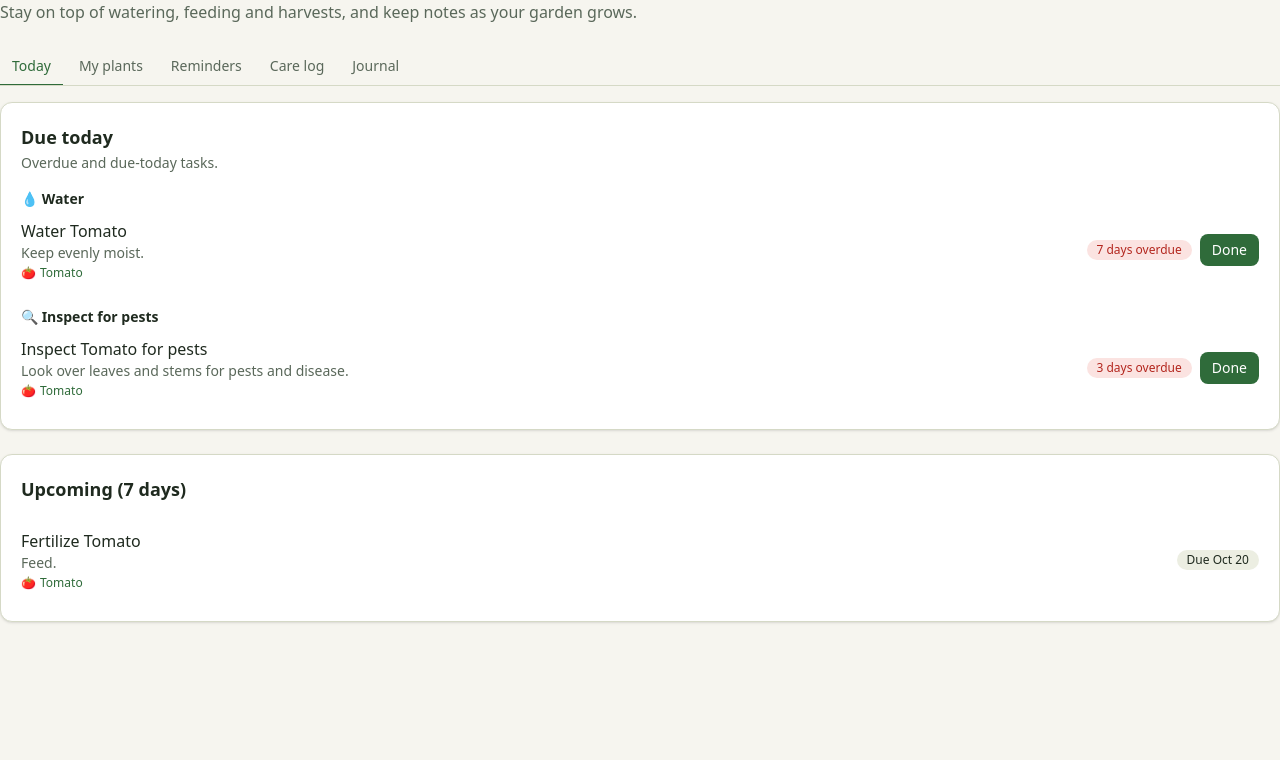
Test: CarePage › Journal › edits and deletes an entry
Later steps or results of the test are not shown.
Click the tab "Journal": (376, 67) [340, 48, 411, 86]
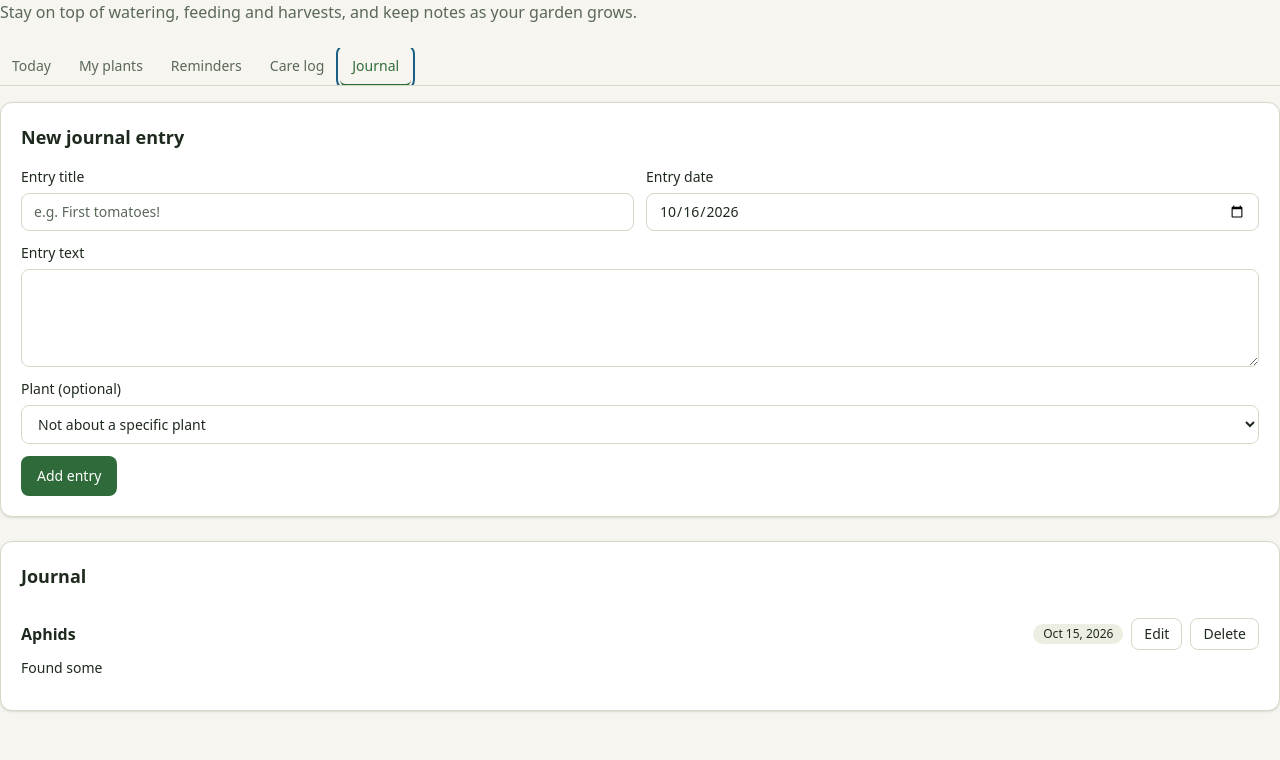
Click the button with aria-label "Edit Aphids": (1157, 634) [1131, 618, 1182, 650]
(page scrolled)
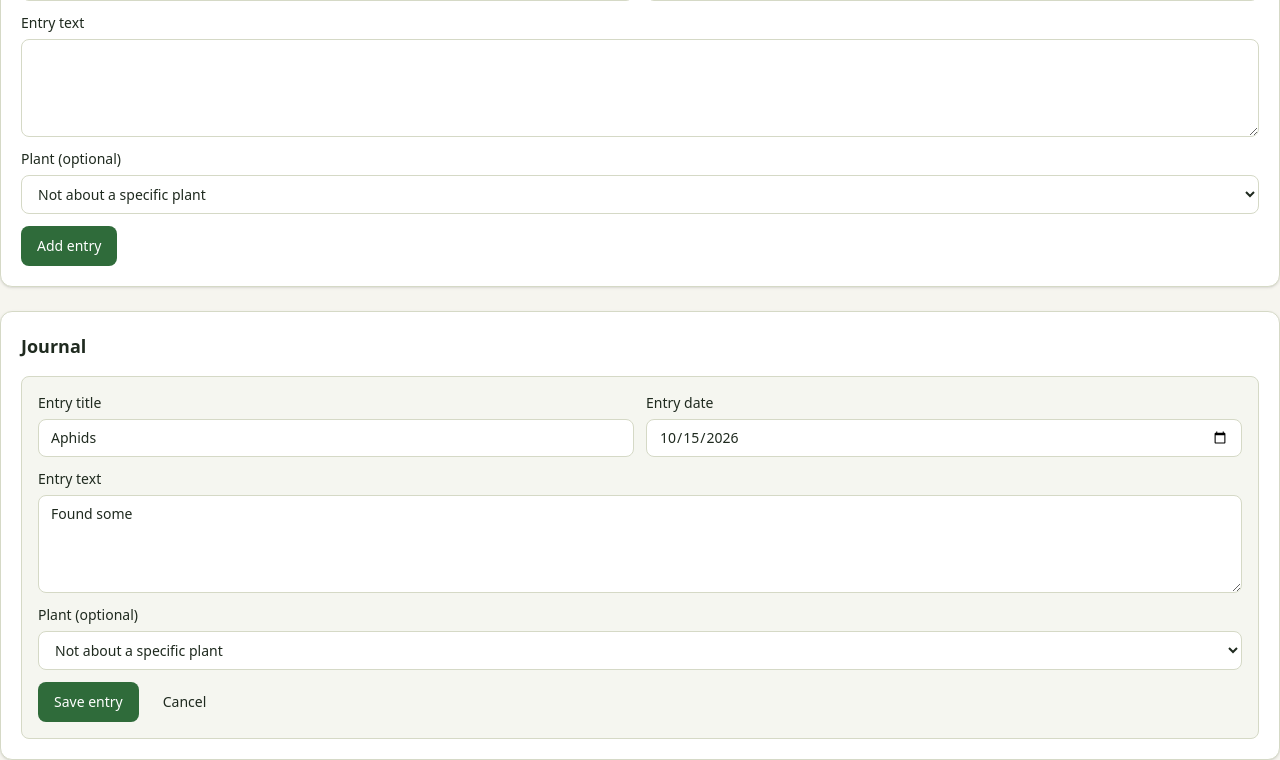
Replace the text in the 2nd text box labelled "Entry text" with "Sprayed with soap": (640, 544) [38, 495, 1242, 593]
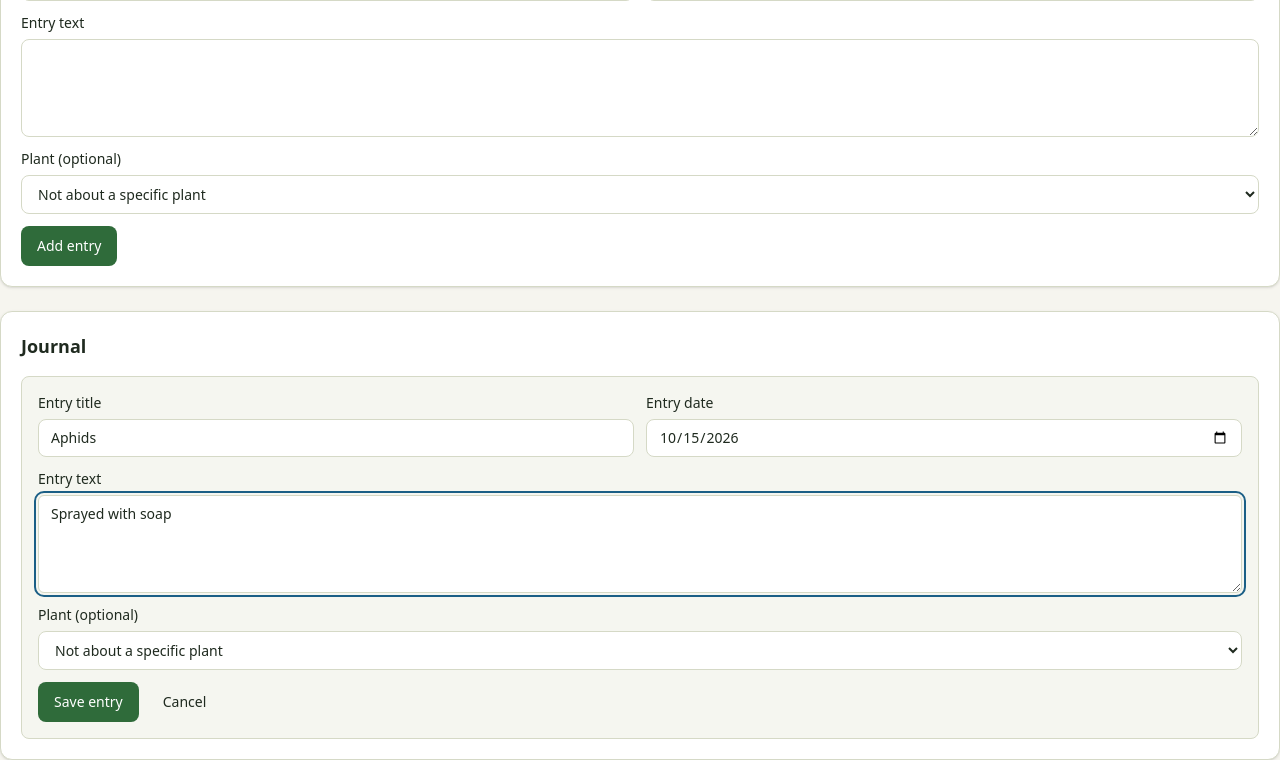
Click the button "Save entry": (88, 702) [38, 682, 139, 722]
(page scrolled)
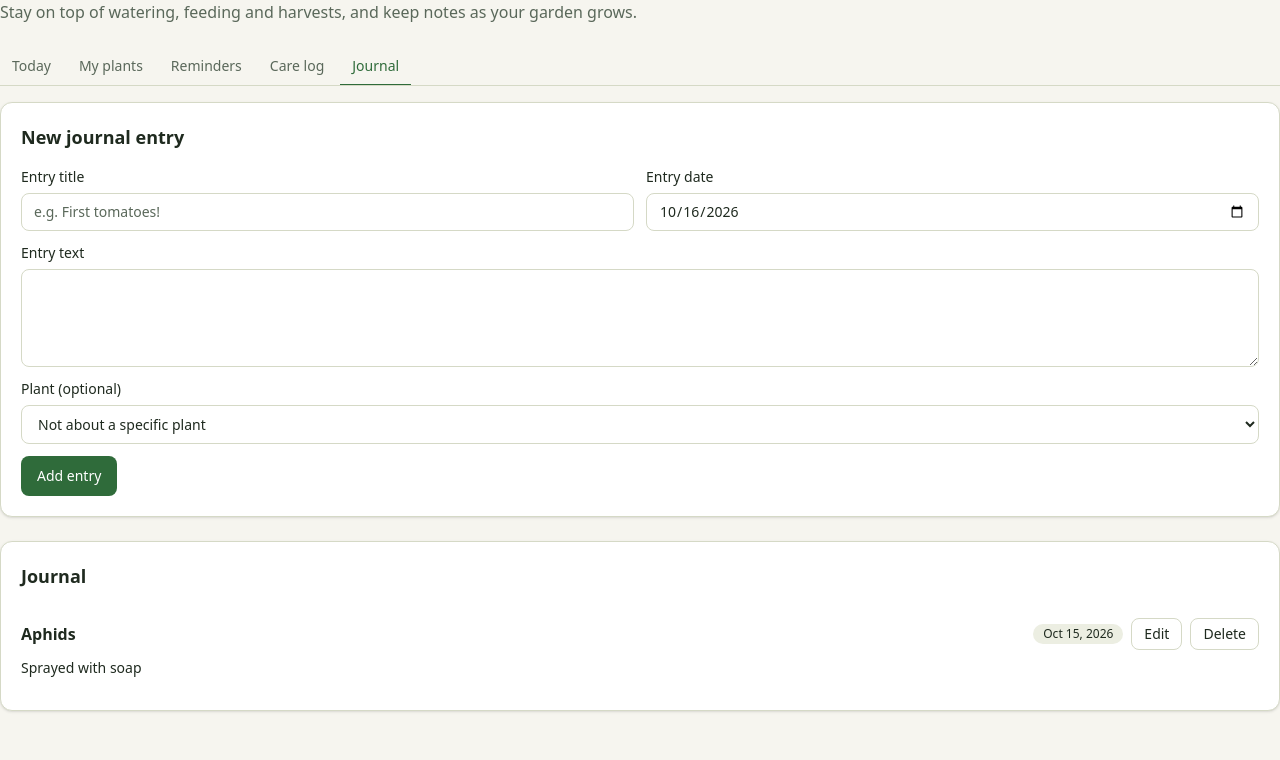
Now the text "Sprayed with soap" is shown, box [21, 658, 142, 677]
